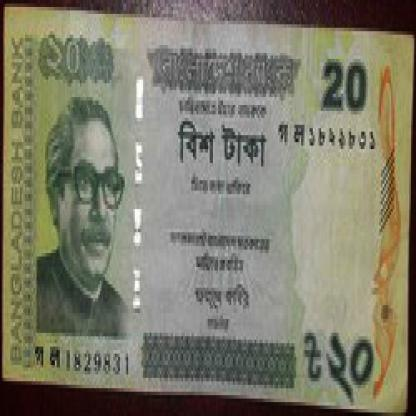Twenty: (298, 326, 376, 402), (172, 107, 266, 170), (310, 52, 378, 125), (35, 38, 121, 87)
